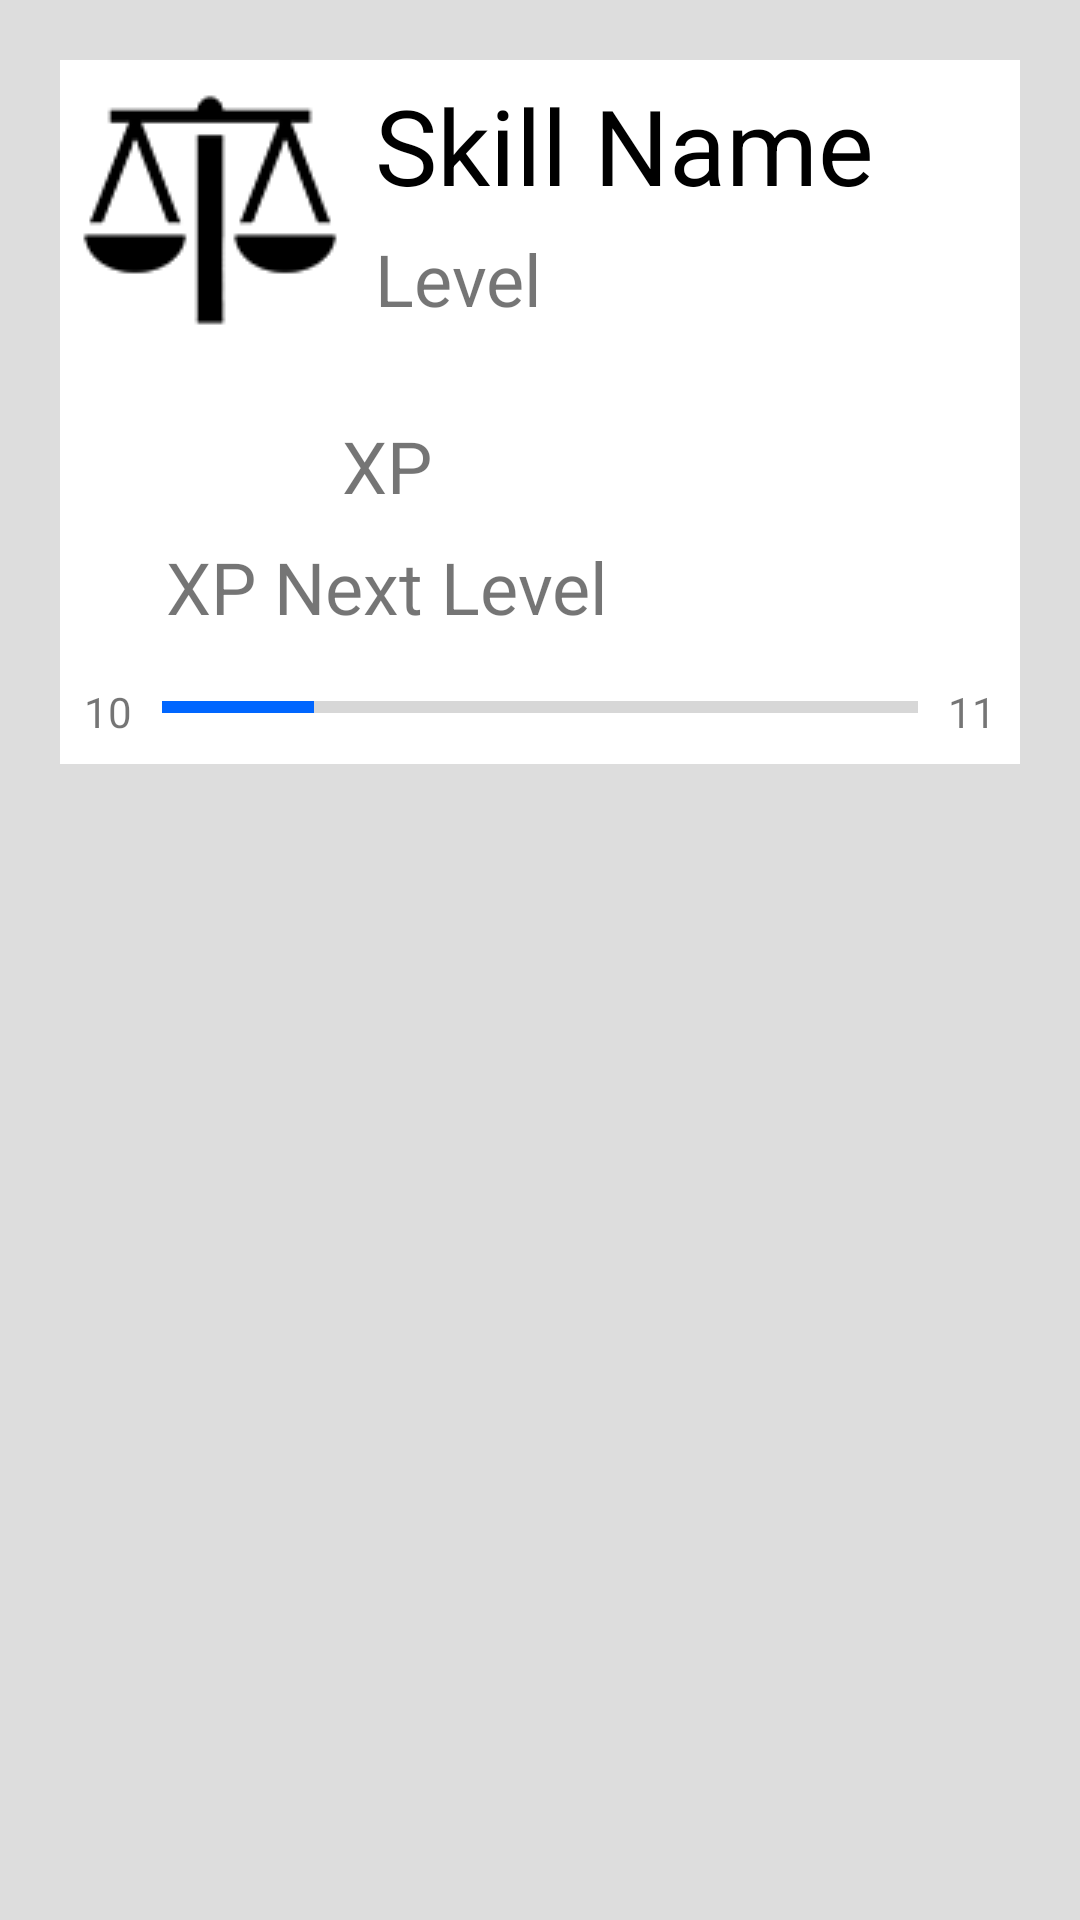

Named icons in this screenshot (1080px×1920px) and their centers, (x,y):
balance: (210,210)
